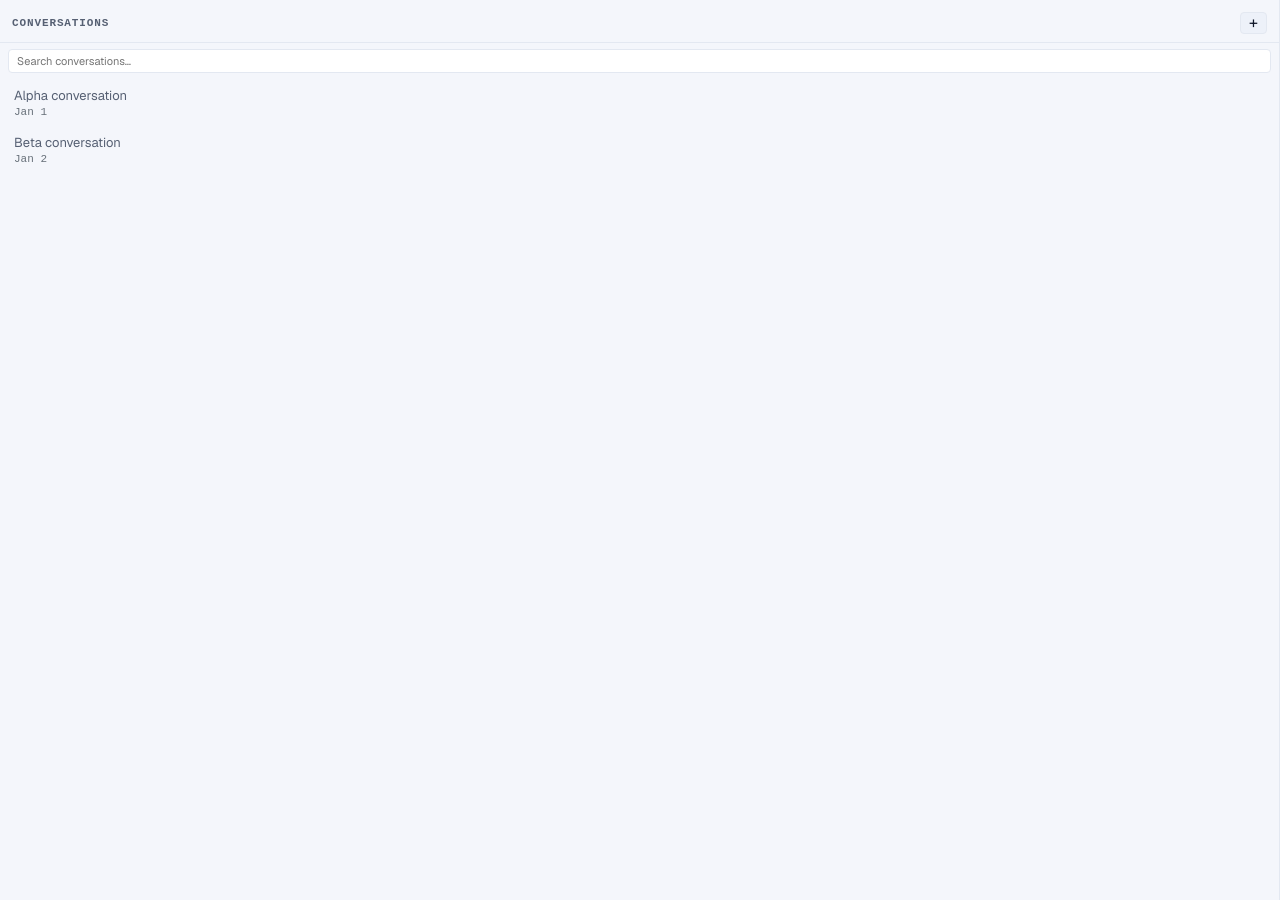
Test: ConversationList — R7-3 filter (AC-R7-3-3) › filters conversations by typed text
In the search field with test id "conversation-filter-input": (640,61) x1=8 y1=49 x2=1271 y2=73, type "Alpha"
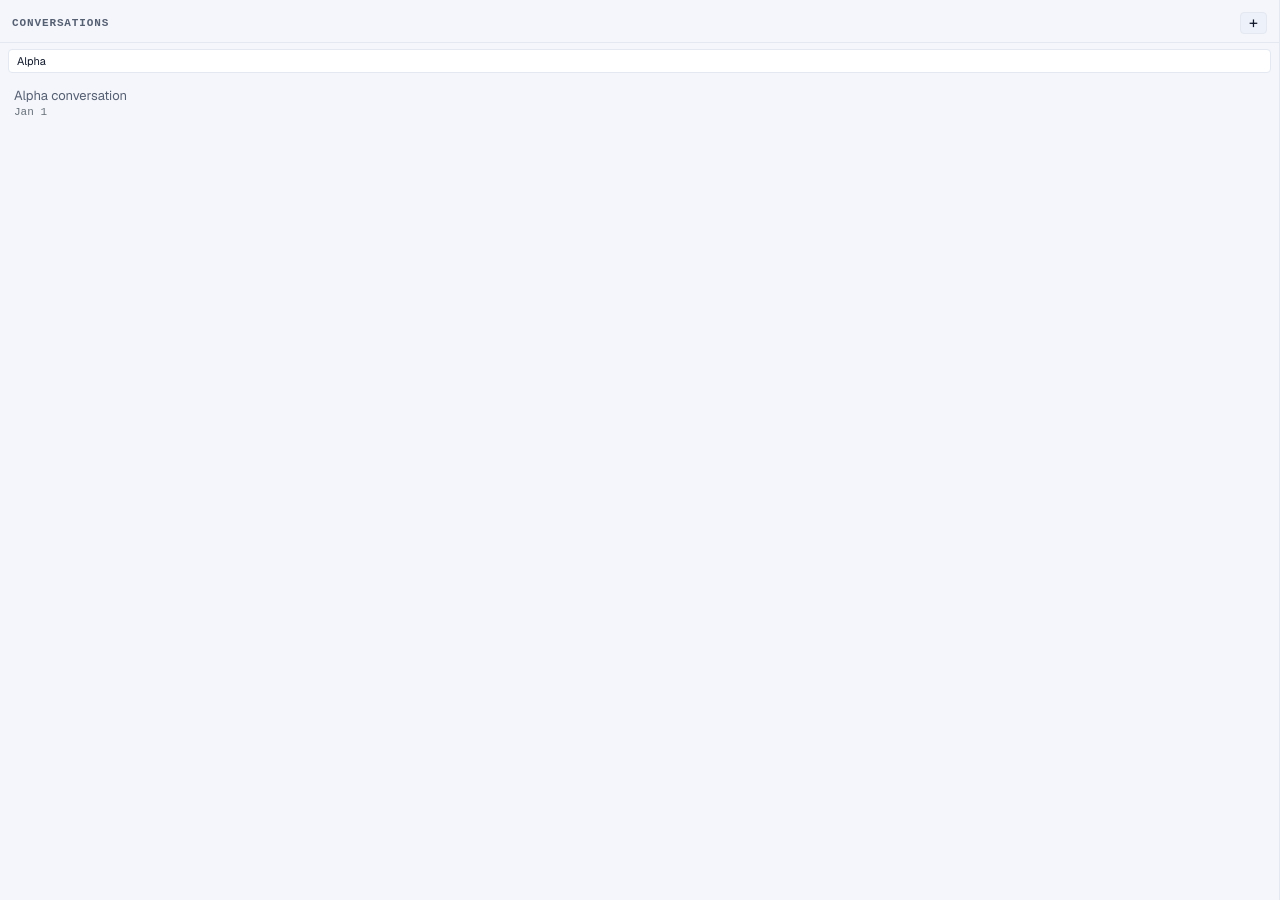
Expected: the text "Alpha conversation" is shown, x1=14 y1=87 x2=127 y2=104
Expected: the button "Beta conversation" is gone
